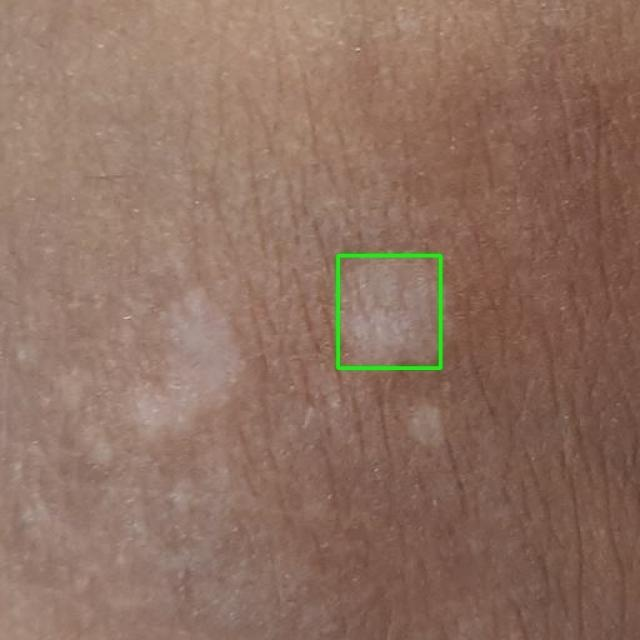Eczema: (338, 255, 440, 368)
